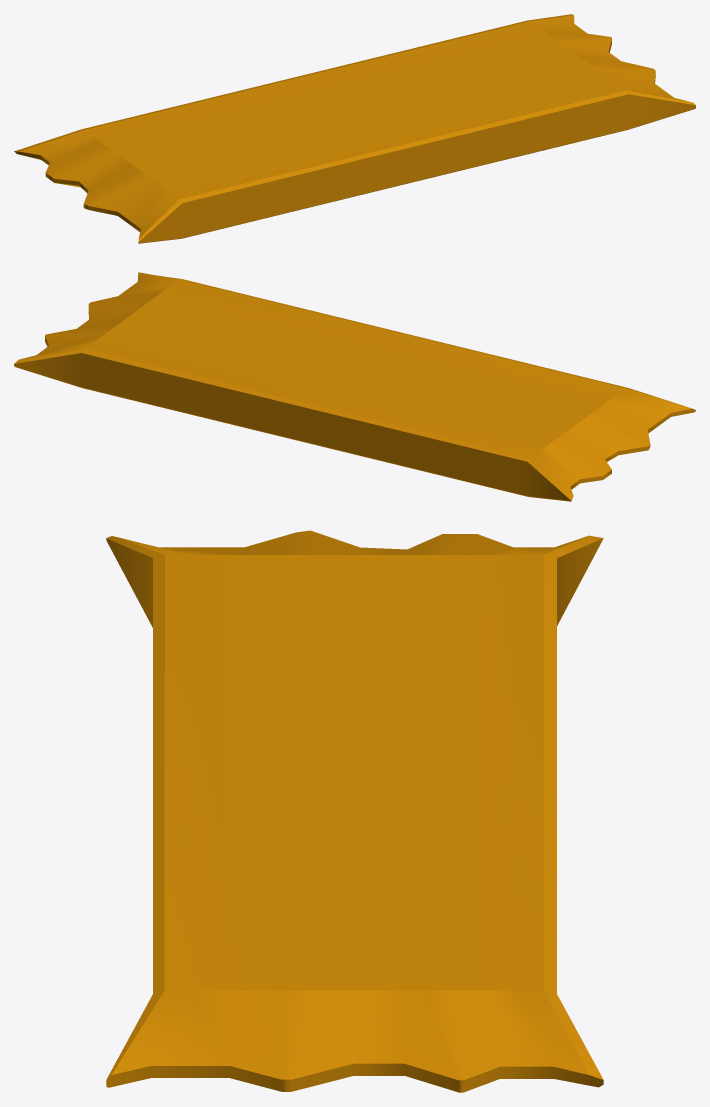
The model's file is FinalCandy.fbx.
3 views of the same model, one above another, from view 1: azimuth 30°, elevation 25°; view 2: azimuth 150°, elevation 25°; view 3: azimuth 270°, elevation 25° (orthographic). The views are drawn at different scales.
Visible parts, largest first — view 1: FinalCandy; view 2: FinalCandy; view 3: FinalCandy.
Part boxes in pixels (x1,y1,x2,y2): FinalCandy: (14, 14, 695, 243); FinalCandy: (14, 272, 695, 501); FinalCandy: (106, 530, 603, 1092).
Bounding box in the file's own units: 9.09 × 0.5771 × 3.46.
